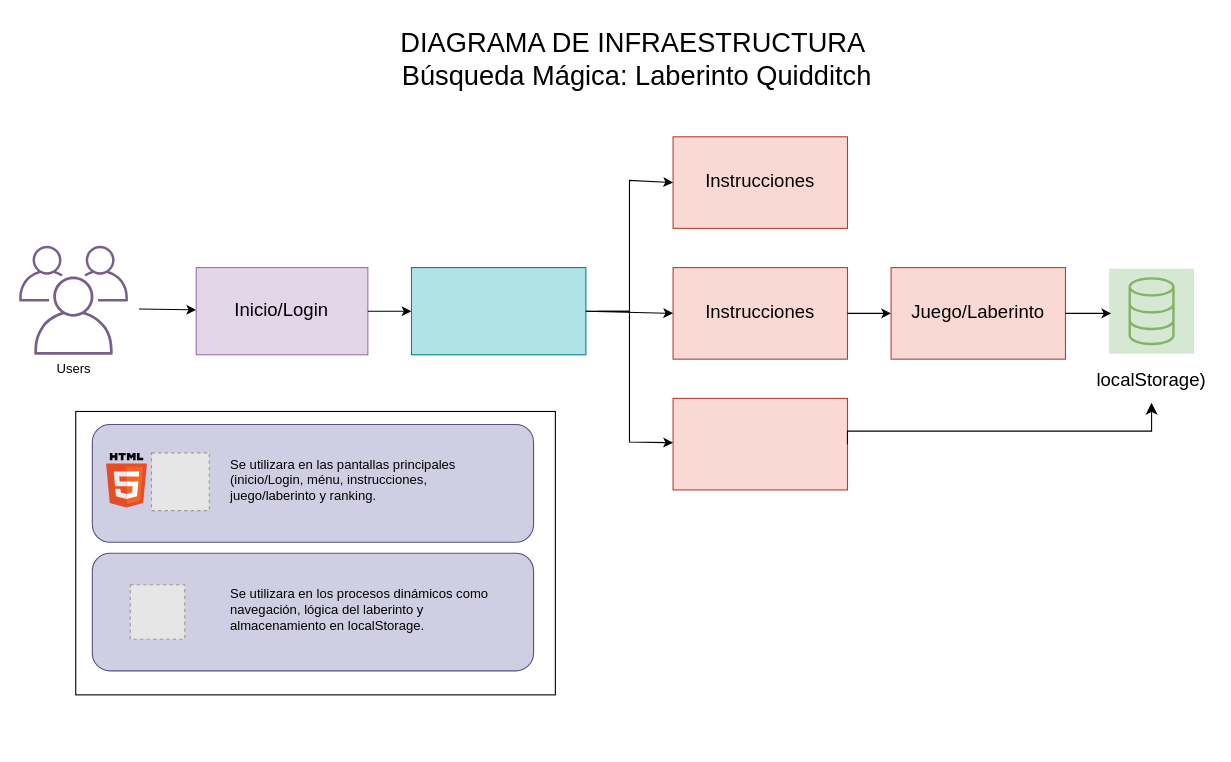
This 1231x762 diagram has some shape labels left out. Grey dashed boxes stand in for pictures. Each missing label, with the centre of its shape:
"Ménu" goes at point 498,311.
"Ranking" goes at point 759,443.
